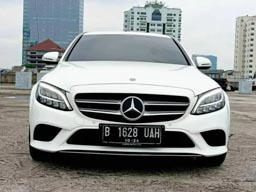plat: (103, 126, 159, 137)
